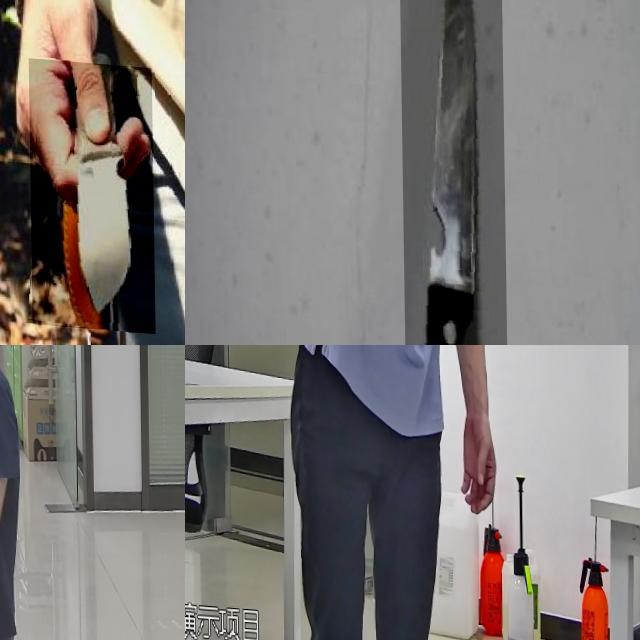-: (399, 0, 508, 345), (28, 54, 154, 328)
gun-knife-thesis - v11 Yolov5 augmented: (262, 345, 350, 454), (0, 448, 27, 510)
